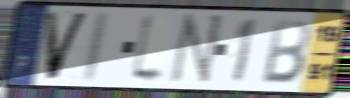1: (228, 16, 259, 85)
B: (259, 18, 312, 86)
I: (79, 9, 111, 84)
L: (127, 10, 168, 87)
N: (168, 12, 226, 88)
V: (43, 9, 92, 82)
